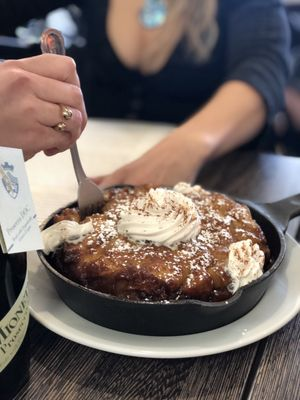burger: (70, 143, 106, 219)
